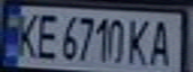0: (109, 15, 130, 64)
1: (93, 15, 112, 63)
6: (57, 11, 81, 62)
7: (75, 14, 96, 62)
A: (145, 16, 178, 69)
E: (30, 10, 63, 61)
K: (9, 9, 42, 58), (124, 16, 154, 66)
